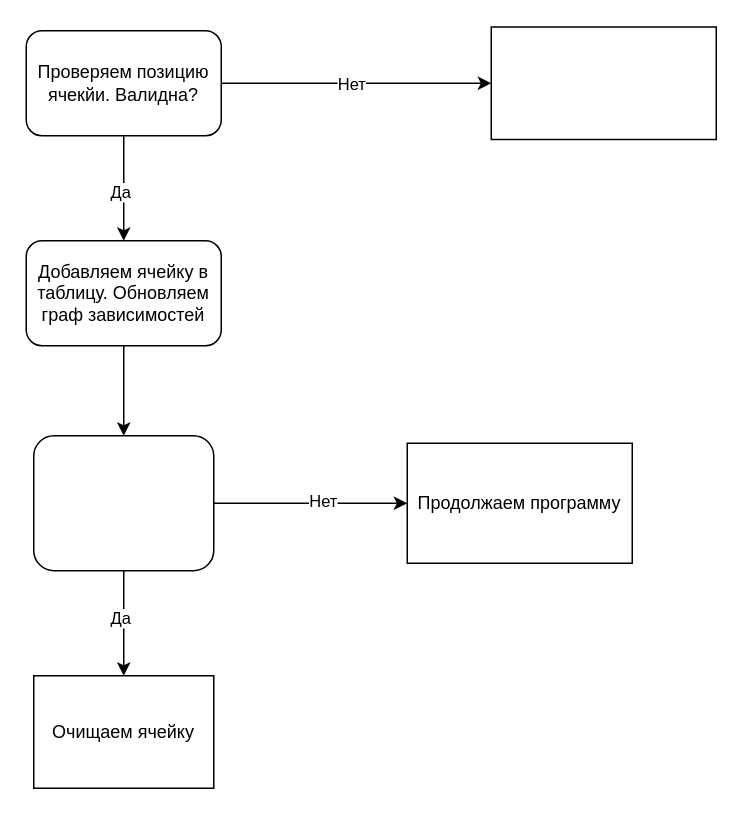
Image size: 743x815. Some labels were removed from this diagram. The centre of each missing label's shape, as x and y in pixels:
Исключение InvalidPositionException: (x=603, y=83)
Проверяем на циклические зависимости. Есть?: (x=123, y=502)
